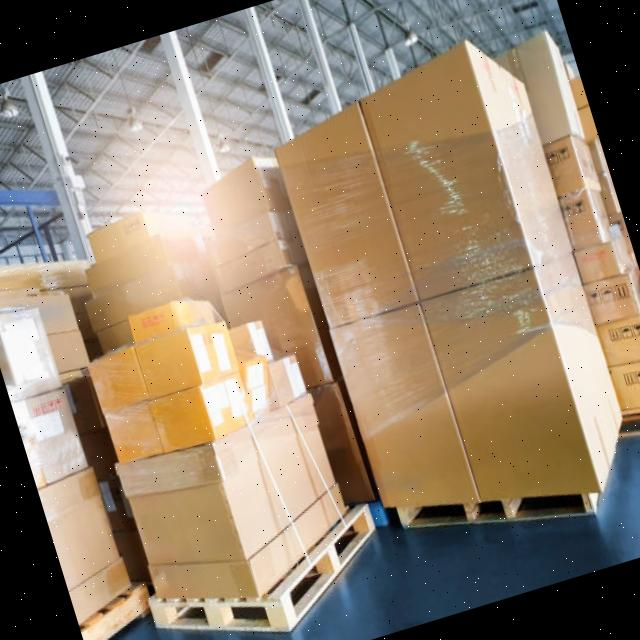Wooden-Pallets: (151, 498, 380, 640), (386, 477, 602, 535)
